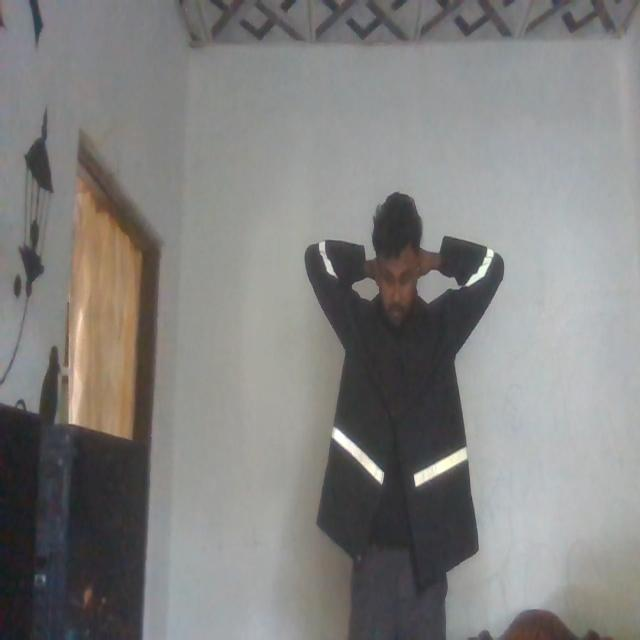Jacket_Wearer: (302, 241, 506, 565)
Person: (302, 174, 504, 640)
